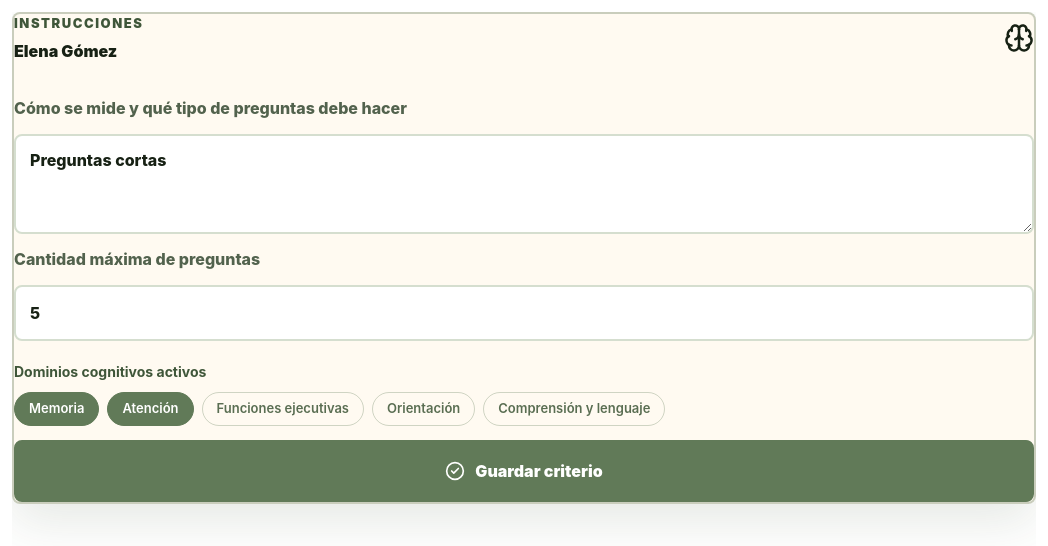
it: AiConfigPanel › guarda instrucciones recortadas, cantidad y dominios
The image size is (1048, 546).
Step 1. Replace the text in the text box labelled "Cómo se mide y qué tipo de preguntas debe hacer" with "  Pocas preguntas  " → (524, 184), box x1=14 y1=134 x2=1034 y2=234
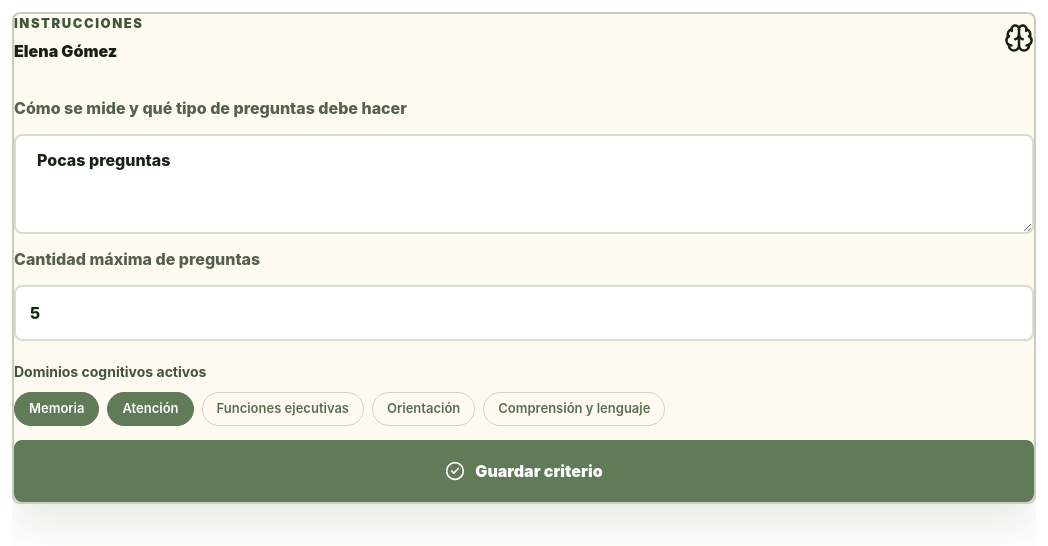
Step 2. Replace the text in the number field labelled "Cantidad máxima de preguntas" with "7" → (524, 313), box x1=14 y1=285 x2=1034 y2=341
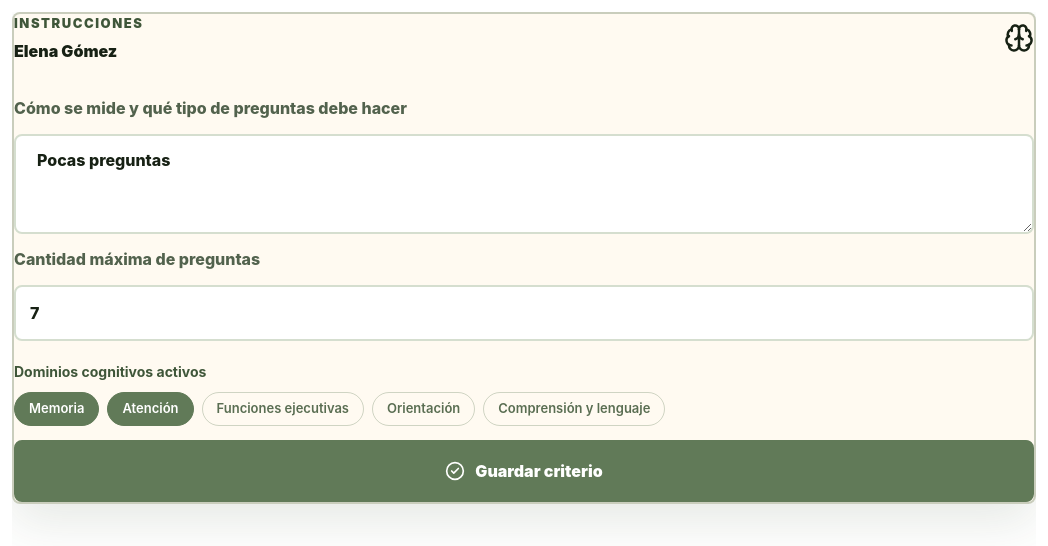
Step 3. Click the button "Orientación" → (424, 409), box x1=372 y1=392 x2=475 y2=426
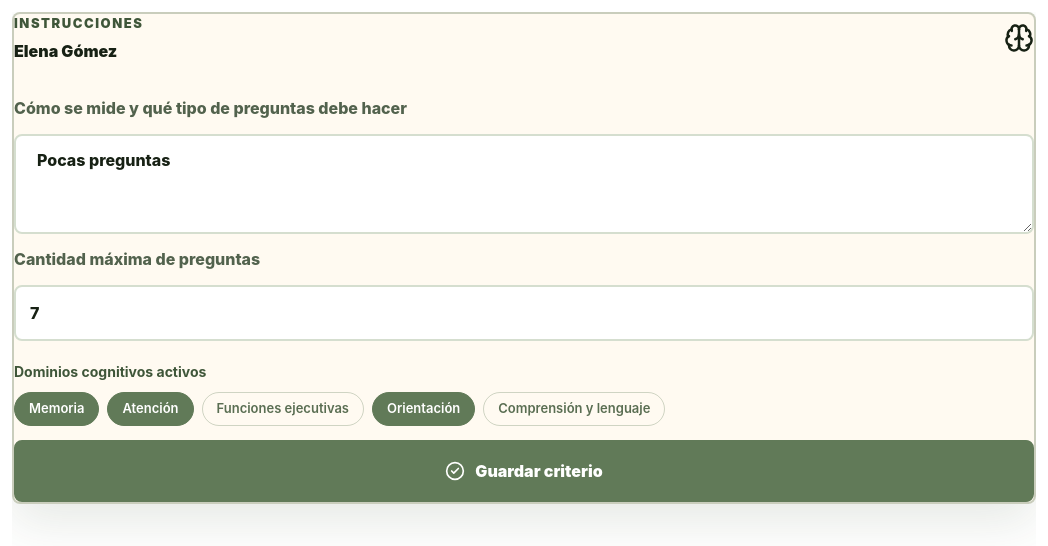
Step 4. Click the button "Guardar criterio" → (524, 471), box x1=14 y1=440 x2=1034 y2=502
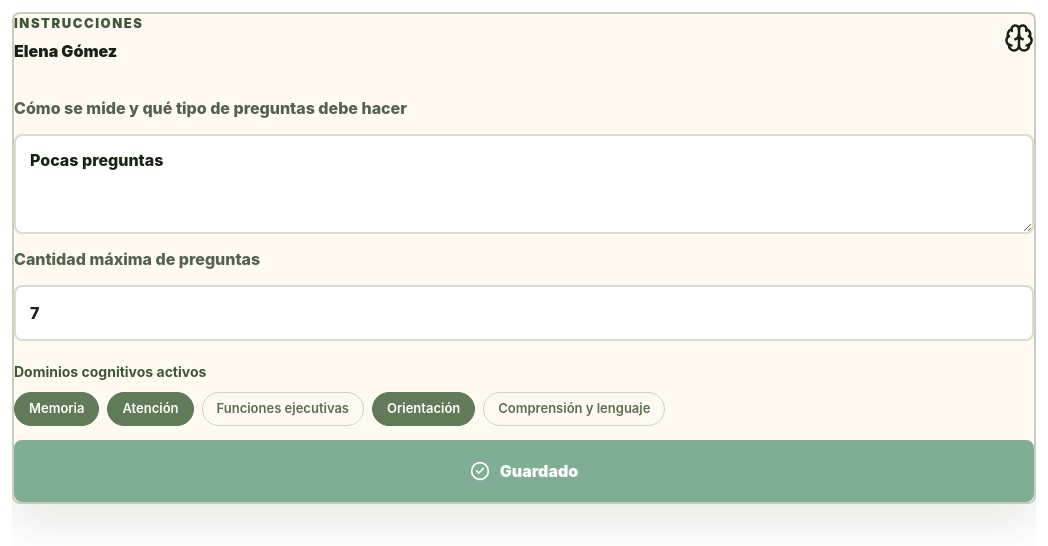
Result: the button "Guardado" is shown at x1=14 y1=440 x2=1034 y2=502
